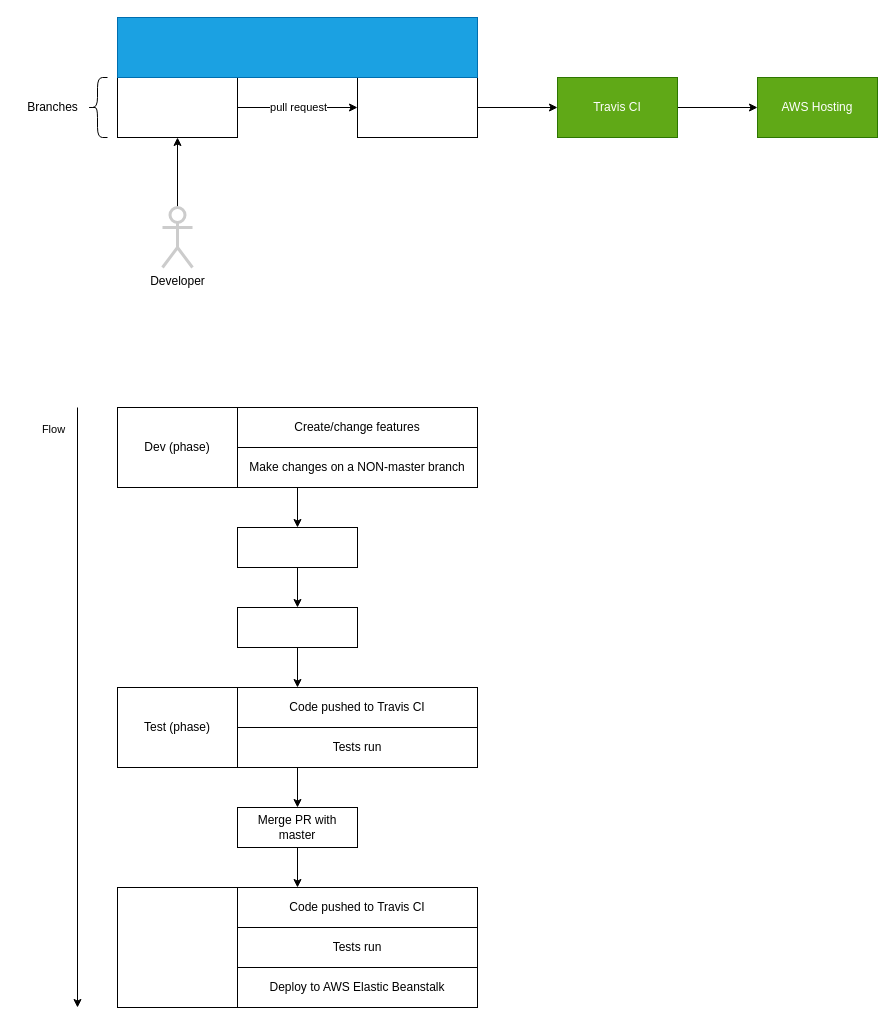
This 895x1033 diagram has some shape labels left out. The shapes that lost their labels are listed below. From the top down, each one's box as (x1, y1, x2, y2) in pixels, then its label:
(116, 16, 478, 78): Github Reop
(116, 76, 238, 138): feature
(356, 76, 478, 138): master
(236, 526, 358, 568): Push to Github
(236, 606, 358, 648): Create pull-request to merge with master
(116, 886, 238, 1008): Prod (phase)
